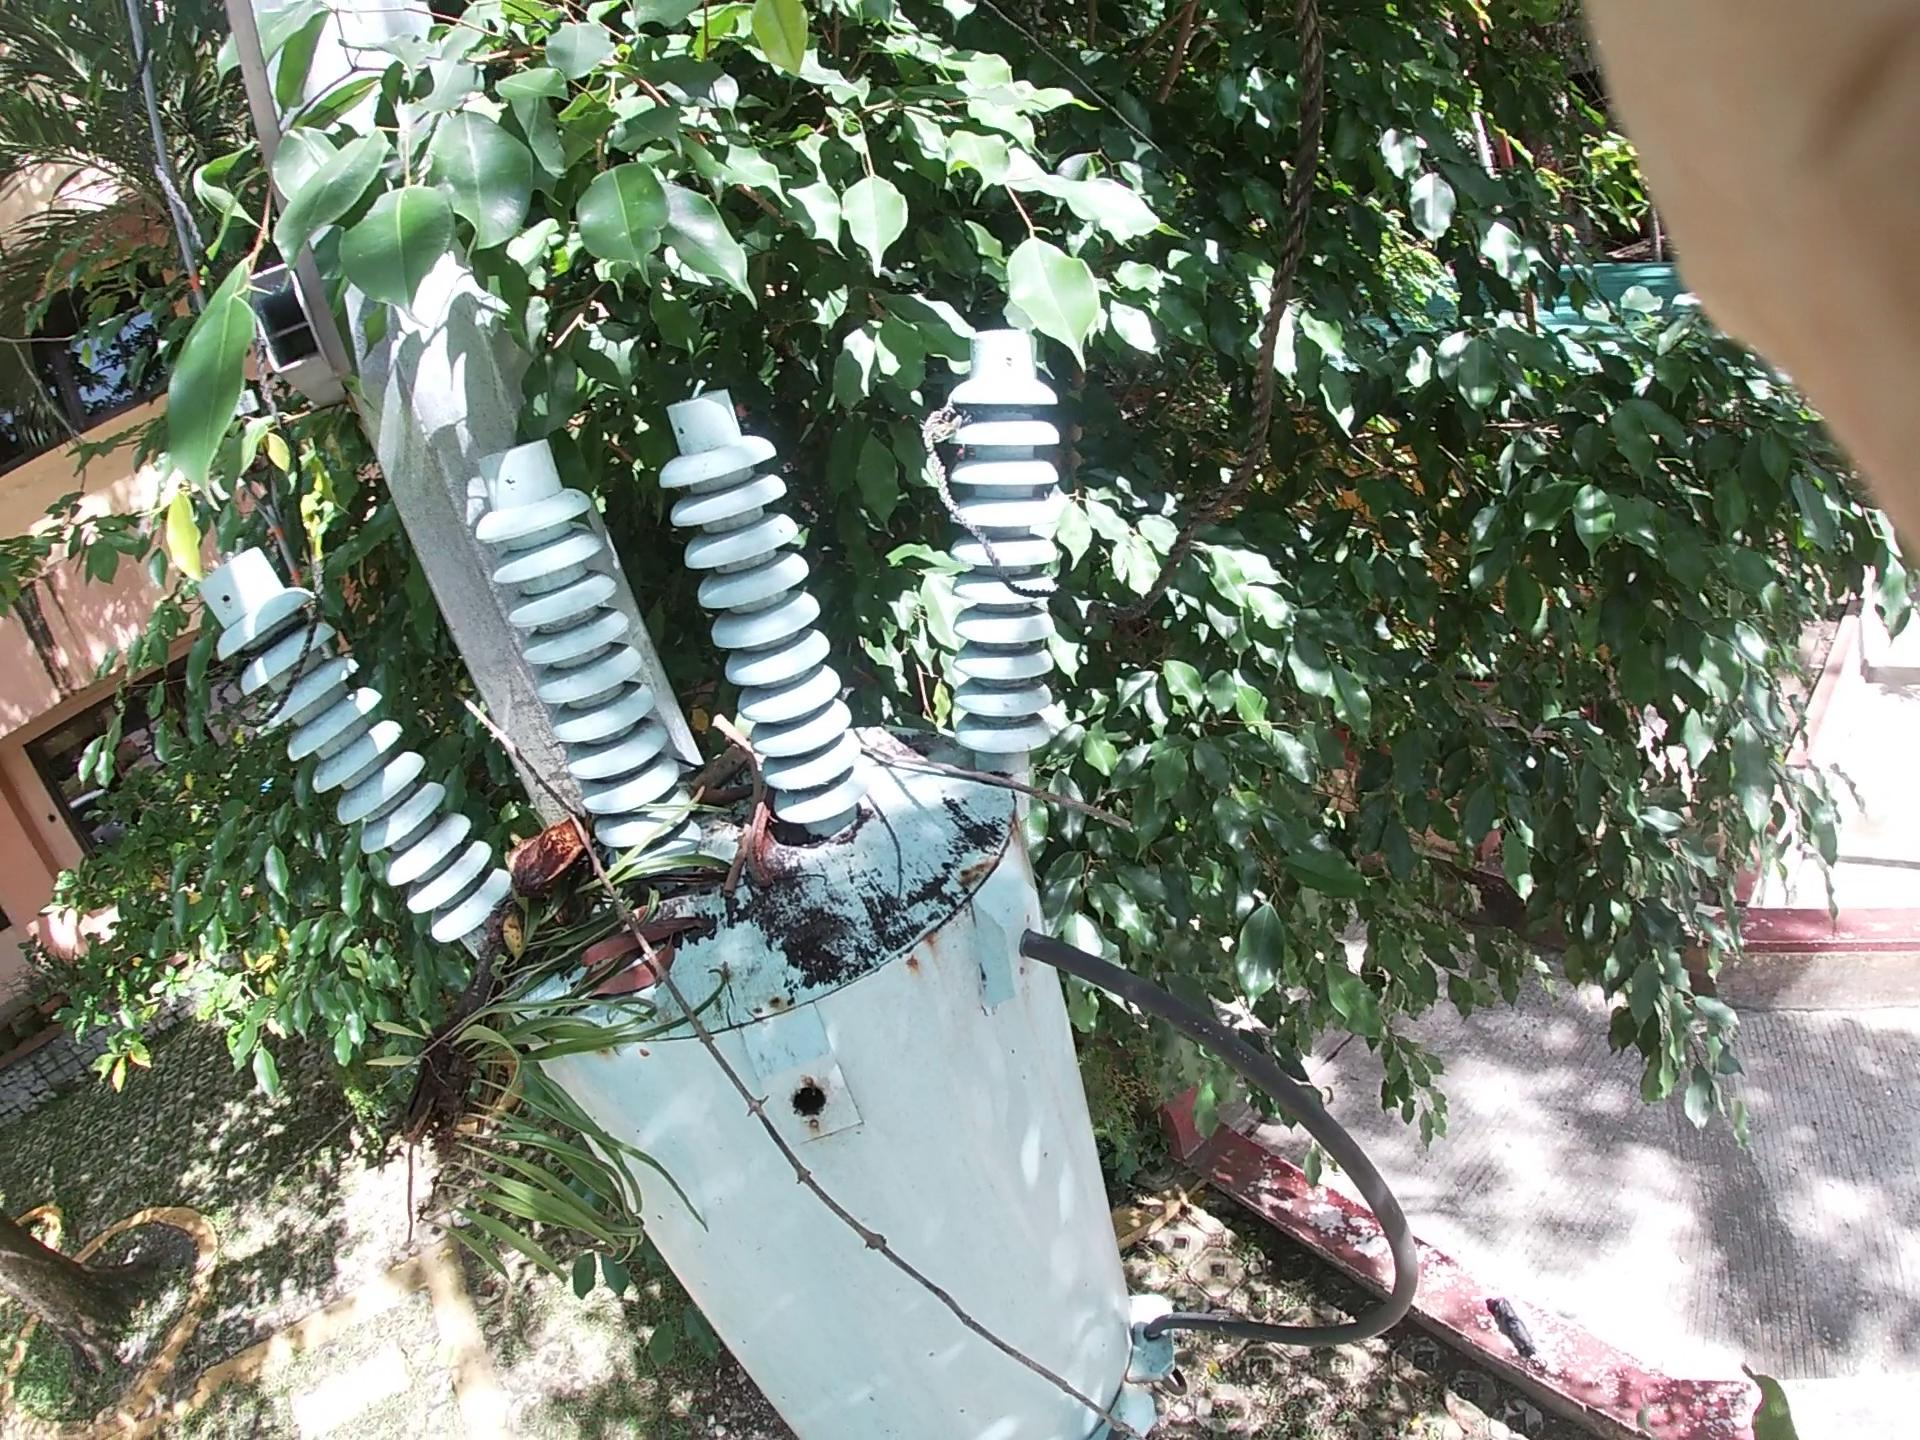branch with leaves: (310, 824, 658, 1213)
leaf: (517, 924, 680, 1062)
mahogany fruit: (688, 720, 865, 895), (497, 791, 624, 944)
tree branch: (469, 691, 912, 1346), (608, 682, 828, 970), (816, 743, 1132, 861)
